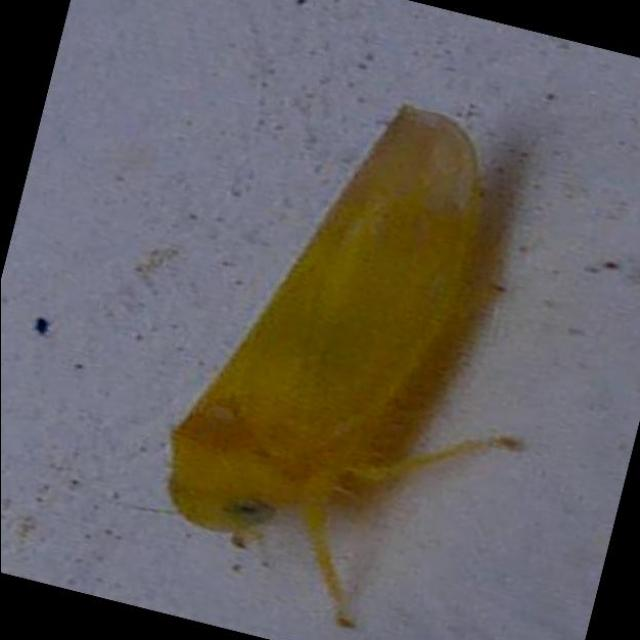green leaf hopper: (168, 107, 516, 628)
